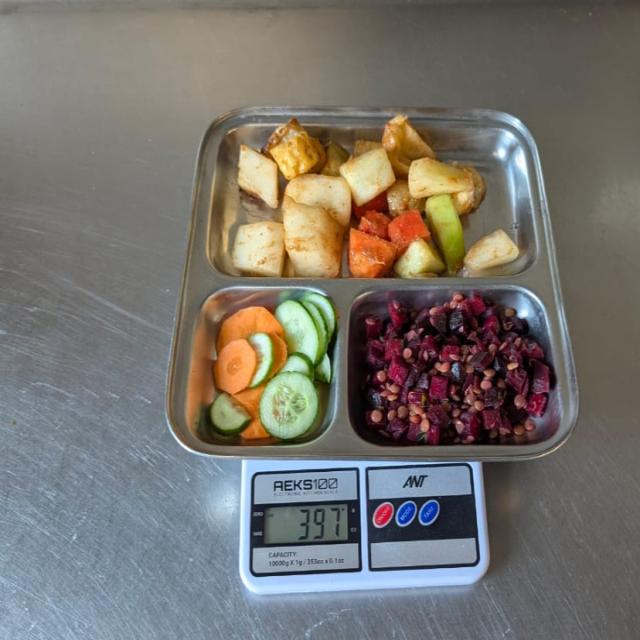Chaat: (236, 117, 526, 276)
Salad: (352, 286, 558, 445), (207, 294, 340, 442)
